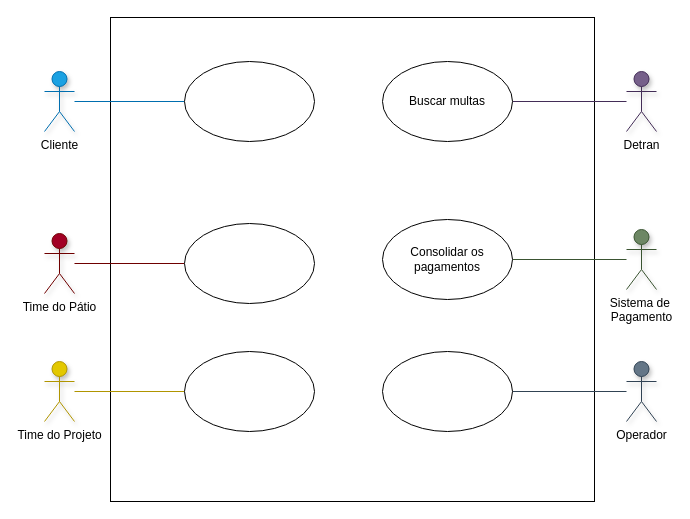
This 690x519 diagram has some shape labels left out. Each missing label, with the centre of its shape:
Controlar as locações: point (249, 263)
Definir as categorias dos veículos: point (249, 391)
Solicitar Locação de um Veículo: point (249, 101)
Verificar Locações pendentes: point (447, 391)
